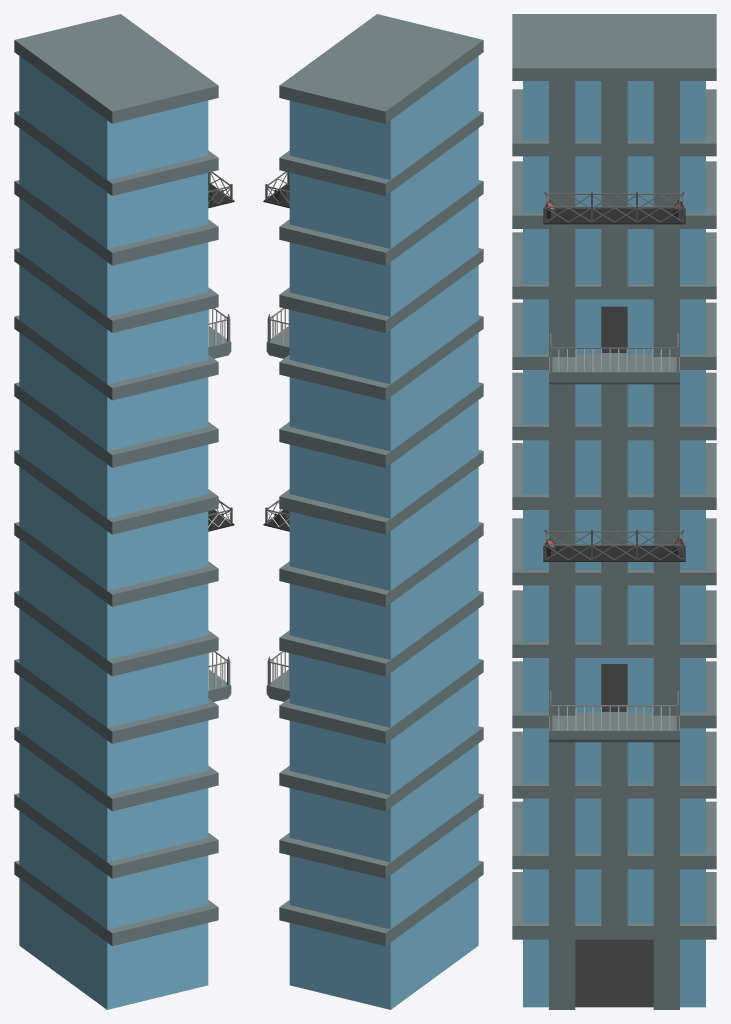
The model's file is level_1.fbx.
3 views of the same model, side by side, from view 1: azimuth 30°, elevation 25°; view 2: azimuth 150°, elevation 25°; view 3: azimuth 270°, elevation 25° (orthographic). The views are drawn at different scales.
Parts seen in each view (by area): view 1: Cube, Cube.001; view 2: Cube, Cube.001; view 3: Cube, Cube.030, Cube.001, Cube.017, Cube.013, Cube.011.
Boxes of the visible parts, x1=… form: Cube: x1=14, y1=14, x2=231, y2=1009; Cube.001: x1=208, y1=171, x2=234, y2=527; Cube: x1=266, y1=14, x2=483, y2=1009; Cube.001: x1=263, y1=171, x2=289, y2=527; Cube: x1=512, y1=14, x2=716, y2=1009; Cube.030: x1=549, y1=357, x2=679, y2=384; Cube.001: x1=543, y1=192, x2=685, y2=224; Cube.017: x1=543, y1=529, x2=685, y2=561; Cube.013: x1=550, y1=690, x2=678, y2=730; Cube.011: x1=550, y1=333, x2=678, y2=371.
Bounding box in the file's own units: 450 × 2831 × 557.
